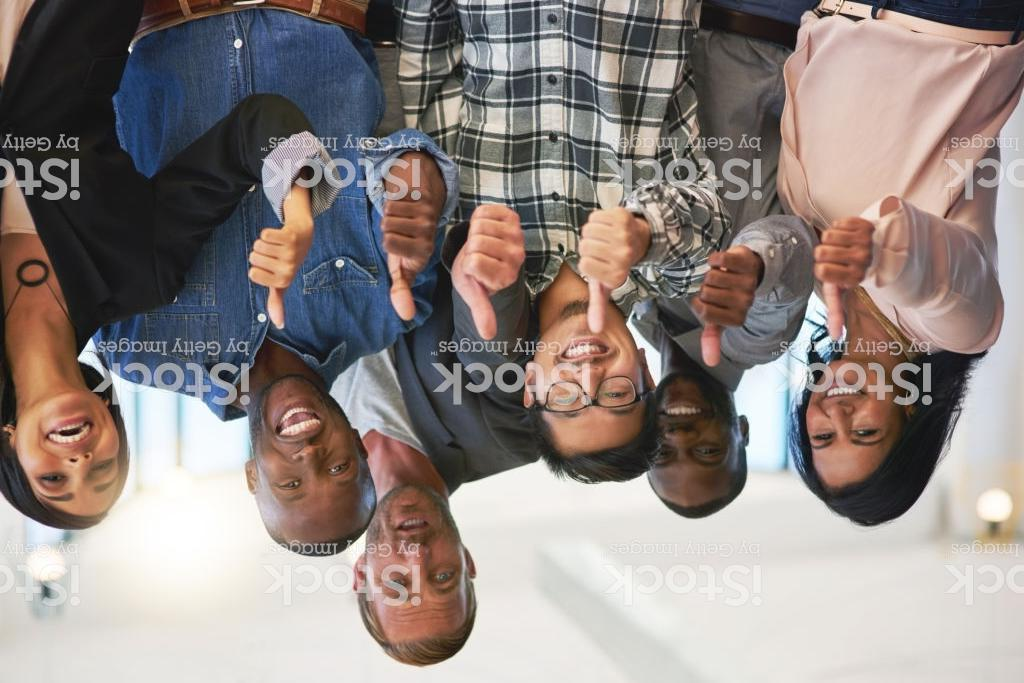thumbsdown: (449, 201, 527, 342), (576, 204, 649, 337), (378, 183, 442, 323), (690, 244, 760, 367), (811, 213, 876, 343), (246, 223, 310, 332)
